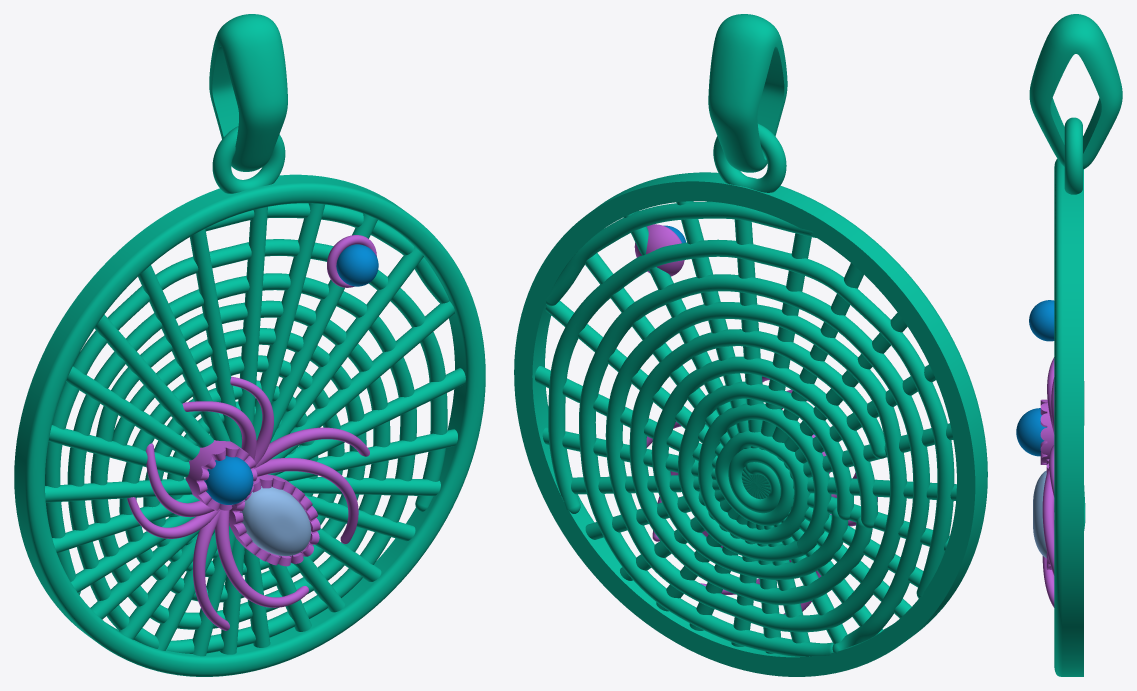
3 renders of one model, left to right at view 1: azimuth 30°, elevation 25°; view 2: azimuth 150°, elevation 25°; view 3: azimuth 270°, elevation 25°, orthographic. The views are drawn at different scales.
Visible parts, largest first — view 1: PG-F (97).3dm, Cabochon_Oval, Pearl_Round; view 2: PG-F (97).3dm; view 3: PG-F (97).3dm, Pearl_Round, Cabochon_Oval.
Part boxes in pixels (x1,y1,x2,y2): PG-F (97).3dm: (14,14,485,676); Cabochon_Oval: (240,486,311,556); Pearl_Round: (204,456,253,504); PG-F (97).3dm: (514,14,987,676); PG-F (97).3dm: (1029,14,1122,676); Pearl_Round: (1016,408,1046,456); Cabochon_Oval: (1033,470,1046,558).
Bounding box in the file's own units: 2.37 × 3.19 × 0.4845.
